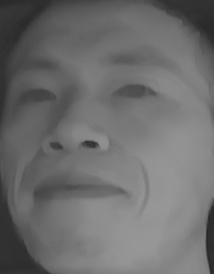eye: (107, 74, 160, 111), (15, 80, 65, 112)
mouth: (32, 168, 126, 215)
